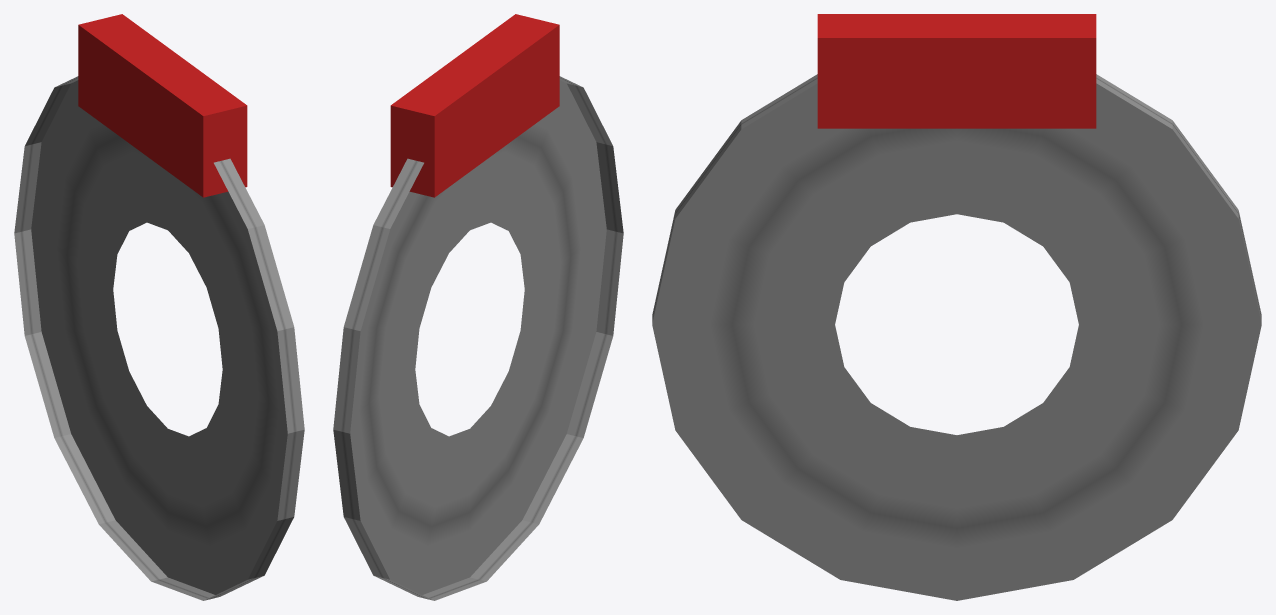
The model's file is brake_03_sport_drilled_red.obj.
The picture shows the model from 3 angles, left to right: view 1: azimuth 30°, elevation 25°; view 2: azimuth 150°, elevation 25°; view 3: azimuth 270°, elevation 25°; orthographic projection. The views are drawn at different scales.
Visible parts, largest first — view 1: brake_03_sport_drilled_red; view 2: brake_03_sport_drilled_red; view 3: brake_03_sport_drilled_red.
Boxes of the visible parts, x1,y1,x2,y2 form: brake_03_sport_drilled_red: (14, 14, 304, 600); brake_03_sport_drilled_red: (333, 14, 623, 600); brake_03_sport_drilled_red: (652, 14, 1261, 600).
Size of the model in its own units: 0.0406 by 0.4531 by 0.4375.
